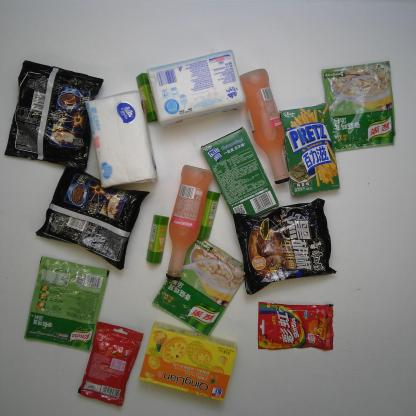Alcohol: (240, 67, 290, 184), (165, 164, 214, 281)
Candy: (78, 321, 142, 408), (255, 300, 336, 354)
Dessert: (200, 126, 280, 228), (139, 322, 238, 402), (277, 103, 340, 196)
Instant Noodles: (34, 164, 149, 270), (4, 60, 104, 172), (233, 198, 337, 296)
Seasoner: (149, 234, 246, 339), (24, 254, 109, 353), (322, 59, 398, 153)
Stationery: (195, 190, 220, 242), (145, 216, 169, 264), (136, 73, 158, 123)
Tissue: (146, 50, 246, 127), (84, 90, 158, 190)
